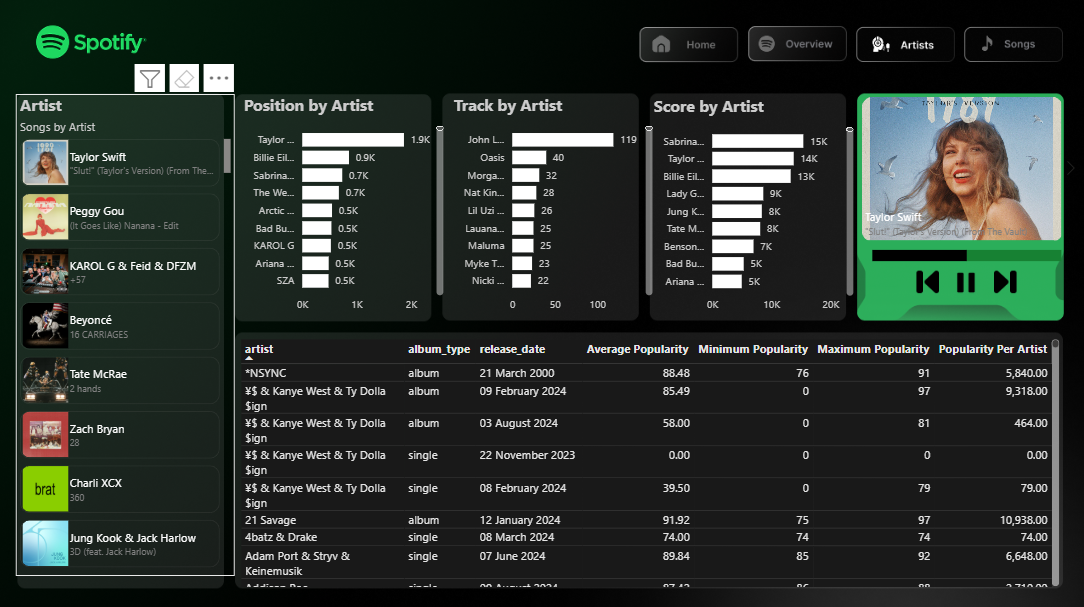

The dashboard page shown, as its layout file describes it:
{"tool":"powerbi","page":{"name":"Artists","canvas":[1280,720],"ordinal":2},"visuals":[{"type":"actionButton","box":[755,32,116,42],"z":0},{"type":"actionButton","box":[885,34,114,40],"z":1000},{"type":"actionButton","box":[1013,34,114,40],"z":2000},{"type":"actionButton","box":[1141,34,114,40],"z":3000},{"type":"clusteredBarChart","title":"Position by Artist","fields":{"Y":["CountNonNull(spotify-top-50-world.position)"],"Category":["spotify-top-50-world.artist"]},"box":[285,111.5,245,266],"z":4000},{"type":"clusteredBarChart","title":"Track by Artist","fields":{"Category":["spotify-top-50-world.artist"],"Y":["_Measures.Average Tracks Per Album"]},"box":[532,111.5,244,266],"z":5000},{"type":"clusteredBarChart","title":"Score by Artist","fields":{"Y":["_Measures.Hit Score"],"Category":["spotify-top-50-world.artist"]},"box":[767.5,112.5,245,265],"z":6000},{"type":"advancedSlicerVisual","title":"Artist","fields":{"Values":["spotify-top-50-world.song"]},"box":[991.2,108.8,287.5,181.2],"z":7000},{"type":"hundredPercentStackedBarChart","fields":{"Y":["_Measures.Average Popularity","Avg(spotify-top-50-world.popularity)"]},"box":[1025,265,232.5,67.5],"z":8000},{"type":"image","box":[1074.5,317.5,40,30],"z":9000},{"type":"image","box":[1165.7,317.5,40,30],"z":10000},{"type":"image","box":[1114.5,315.4,51.2,38.8],"z":11000},{"type":"advancedSlicerVisual","title":"Artist","fields":{"Values":["spotify-top-50-world.song"]},"box":[22,112,258,568],"z":12000},{"type":"tableEx","fields":{"Values":["spotify-top-50-world.artist","spotify-top-50-world.album_type","spotify-top-50-world.release_date Hierarchy.release_date","_Measures.Average Popularity","_Measures.Minimum Popularity","_Measures.Maximum Popularity","_Measures.Popularity Per Artist"]},"box":[281,396,974,300],"z":13000}]}

Visuals, with their boxes in screenshot pixels (x1, y1, x2, y2), scaled from the page's 1280x720 canvas onto the 1084x607 screenshot:
actionButton: select_region(639, 27, 738, 62)
actionButton: select_region(749, 29, 846, 62)
actionButton: select_region(858, 29, 954, 62)
actionButton: select_region(966, 29, 1063, 62)
"Position by Artist" clusteredBarChart: select_region(241, 94, 449, 318)
"Track by Artist" clusteredBarChart: select_region(451, 94, 657, 318)
"Score by Artist" clusteredBarChart: select_region(650, 95, 857, 318)
"Artist" advancedSlicerVisual: select_region(839, 92, 1083, 244)
hundredPercentStackedBarChart - _Measures.Average Popularity x Avg(spotify-top-50-world.popularity): select_region(868, 223, 1065, 280)
image: select_region(910, 268, 944, 293)
image: select_region(987, 268, 1021, 293)
image: select_region(944, 266, 987, 299)
"Artist" advancedSlicerVisual: select_region(19, 94, 237, 573)
tableEx - spotify-top-50-world.artist x spotify-top-50-world.album_type: select_region(238, 334, 1063, 587)
